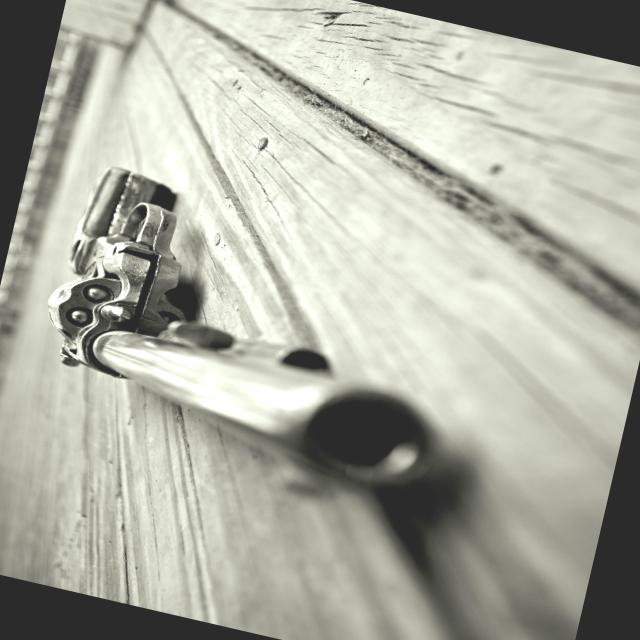handgun: (19, 155, 488, 516)
